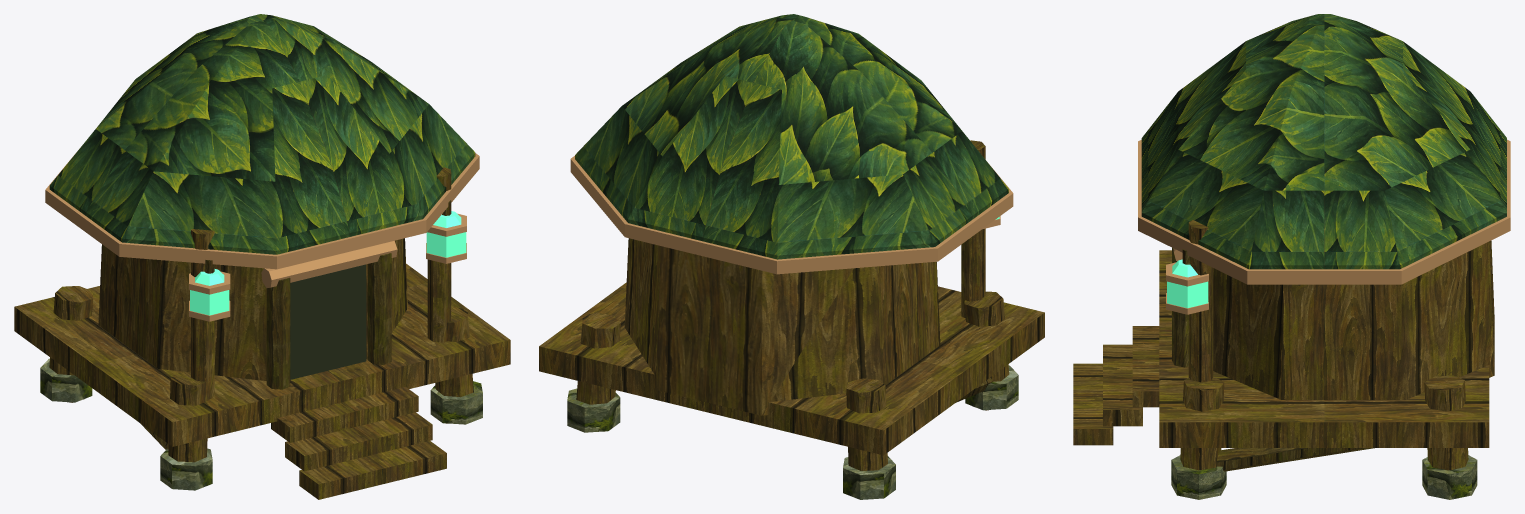
File: 01-stilt-guardhouse.glb
3 views of the same model, side by side, from view 1: azimuth 30°, elevation 25°; view 2: azimuth 150°, elevation 25°; view 3: azimuth 270°, elevation 25° (orthographic). The views are drawn at different scales.
Parts seen in each view (by area): view 1: 01-stilt-guardhouse; view 2: 01-stilt-guardhouse; view 3: 01-stilt-guardhouse.
Part boxes in pixels (<box>): 01-stilt-guardhouse: <box>14,14,510,499</box>; 01-stilt-guardhouse: <box>539,14,1044,499</box>; 01-stilt-guardhouse: <box>1073,14,1510,499</box>.
Bounding box in the file's own units: 2.92 × 2.99 × 2.94.
7 materials, 4 textured.
